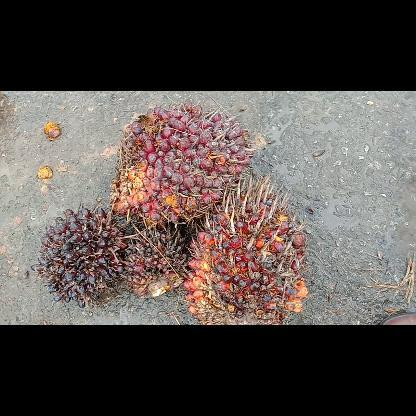TBS abnormal: (30, 206, 126, 309), (118, 222, 188, 300)
TBS masak: (183, 172, 311, 324), (108, 101, 254, 227)
